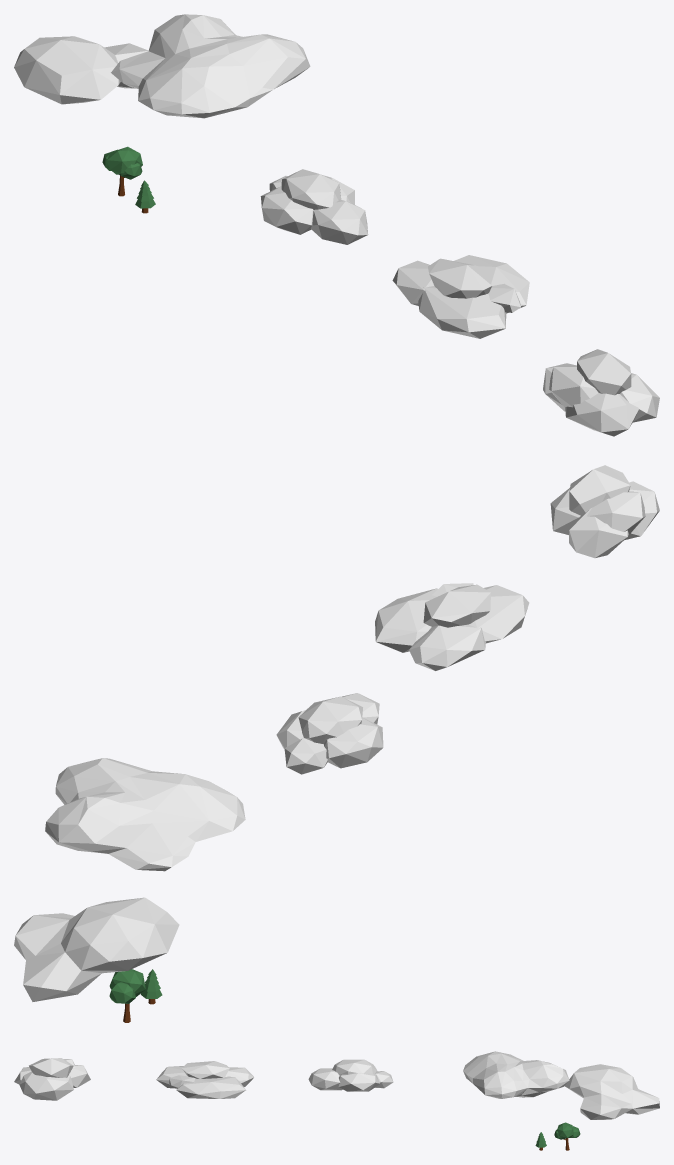
File: Clouds.fbx_Scene_Master_Collection.fbx
3 renders of one model, top to bottom at view 1: azimuth 30°, elevation 25°; view 2: azimuth 150°, elevation 25°; view 3: azimuth 270°, elevation 25°, orthographic. The views are drawn at different scales.
Visible parts, largest first — view 1: Mball.006, Icosphere.008, Icosphere.006, Mball.003, Icosphere.007, Icosphere; view 2: Mball.006, Mball.003, Icosphere.008, Icosphere.006, Icosphere.007; view 3: Mball.006, Mball.003, Icosphere.008, Icosphere.006, Icosphere.007, Icosphere.
Boxes of the visible parts, x1,y1,x2,y2 form: Mball.006: (111,14,310,118); Icosphere.008: (392,255,529,338); Icosphere.006: (543,349,659,436); Mball.003: (14,36,148,104); Icosphere.007: (260,169,368,244); Icosphere: (107,146,142,174); Mball.006: (45,758,245,871); Mball.003: (14,897,179,1001); Icosphere.008: (375,583,529,670); Icosphere.006: (550,465,659,558); Icosphere.007: (276,693,383,774); Mball.006: (463,1051,569,1098); Mball.003: (564,1064,659,1119); Icosphere.008: (156,1061,254,1098); Icosphere.006: (14,1058,90,1100); Icosphere.007: (308,1059,393,1091); Icosphere: (557,1122,573,1137).
Bounding box in the file's own units: 3268 × 2974 × 17187.
